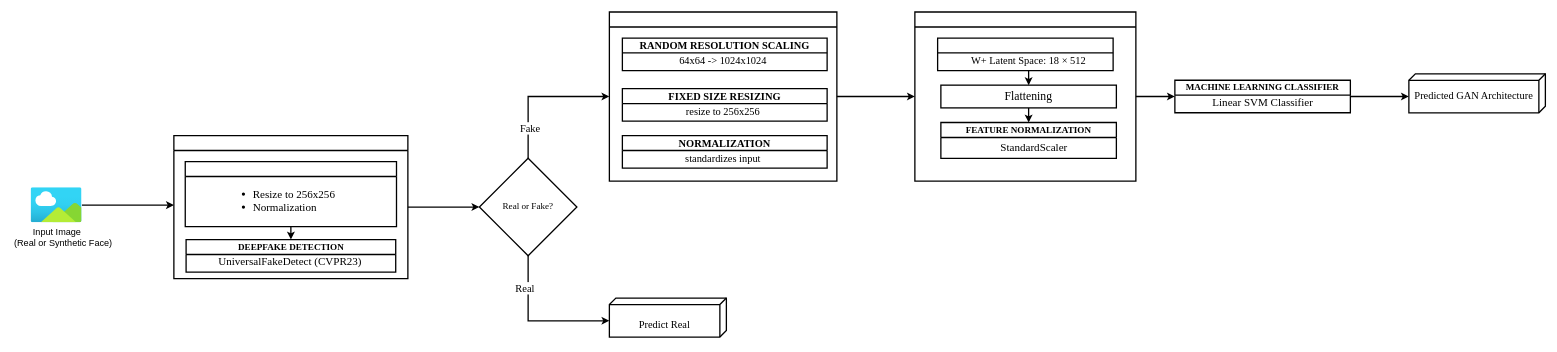
The diagram is 1557 pixels wide and 352 high, and some of its shapes have lost their labels. The shapes that lost their labels are listed below. From the top down, each one's box as (x1, y1, x2, y2) in pixels, then its label:
(937, 37, 1113, 71): e4e ENCODER
(608, 11, 837, 181): RESOLUTION INVARIANT PRE-PROCESSING
(914, 11, 1136, 181): DEEPFAKE ATTRIBUTION MODULE
(184, 161, 397, 227): RESOLUTION AUGMENTATION
(173, 135, 408, 279): DEEPFAKE DETECTION MODULE
